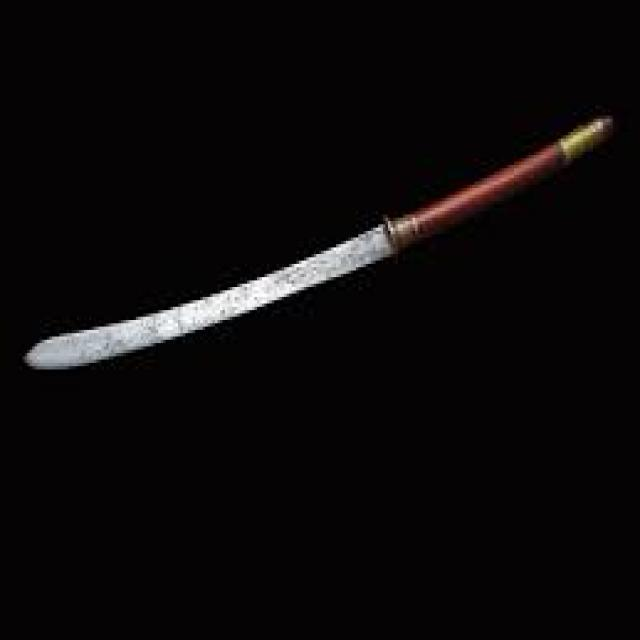long sword: (22, 111, 614, 375)
